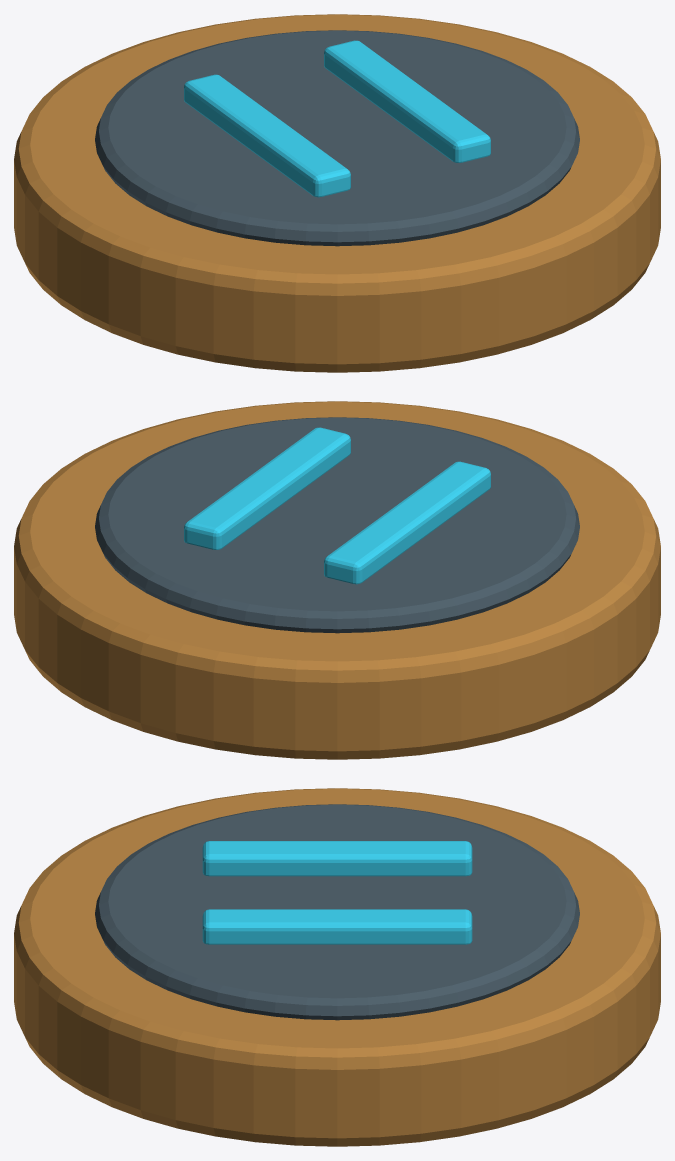
The model's file is SM_CreditoCronal.fbx.
3 views of the same model, one above another, from view 1: azimuth 30°, elevation 25°; view 2: azimuth 150°, elevation 25°; view 3: azimuth 270°, elevation 25° (orthographic).
Parts seen in each view (by area): view 1: SM_CreditoCronal; view 2: SM_CreditoCronal; view 3: SM_CreditoCronal.
Boxes of the visible parts, x1=… form: SM_CreditoCronal: x1=14, y1=14, x2=660, y2=372; SM_CreditoCronal: x1=14, y1=401, x2=660, y2=759; SM_CreditoCronal: x1=14, y1=788, x2=660, y2=1146.
Size of the model in its own units: 24 by 24 by 5.5.
